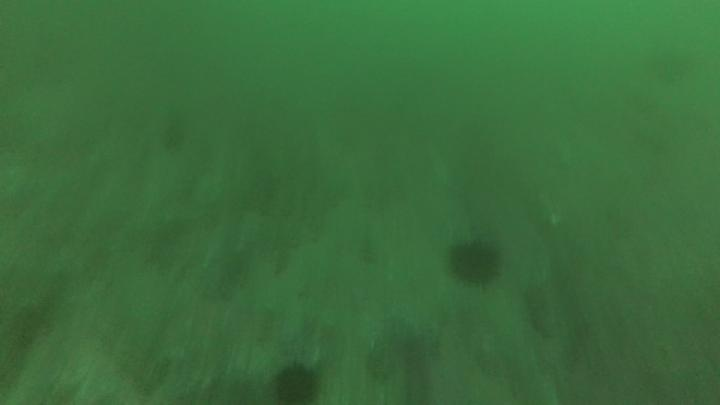echinus: (444, 234, 506, 290), (270, 361, 324, 404)
